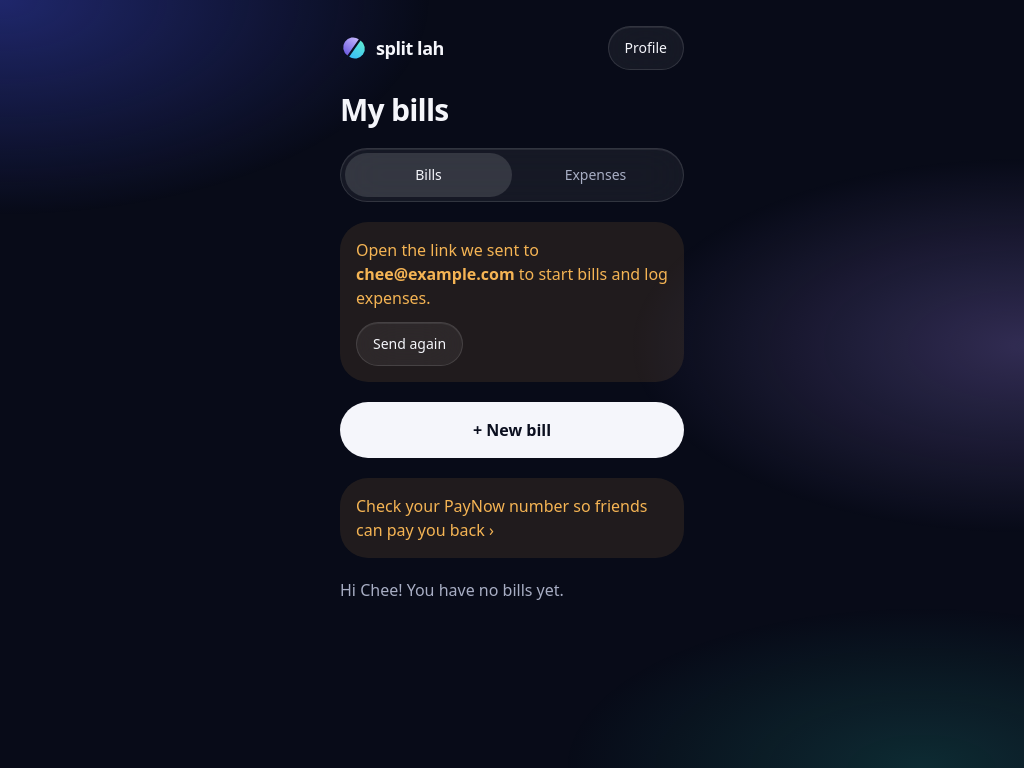
Scenario: Verify banner on the home screens › shows the API answer when asking too often
Click the button "Send again": click(410, 344) [356, 322, 463, 366]
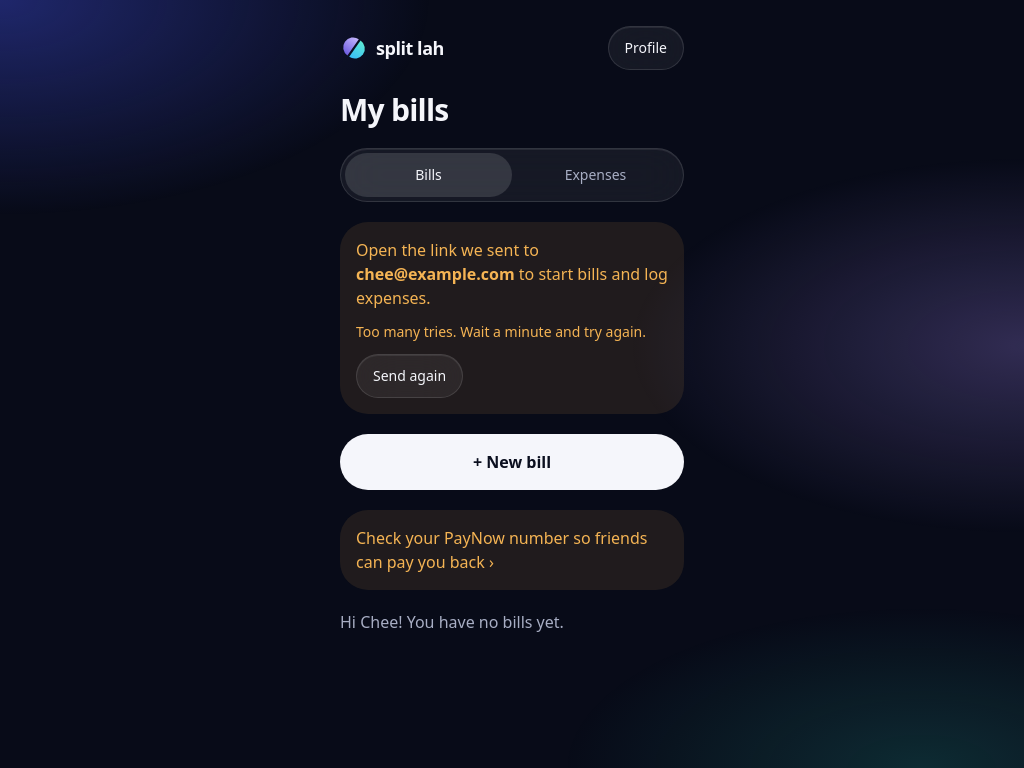
Check: the message shows "Too many", box [356, 322, 646, 341]
